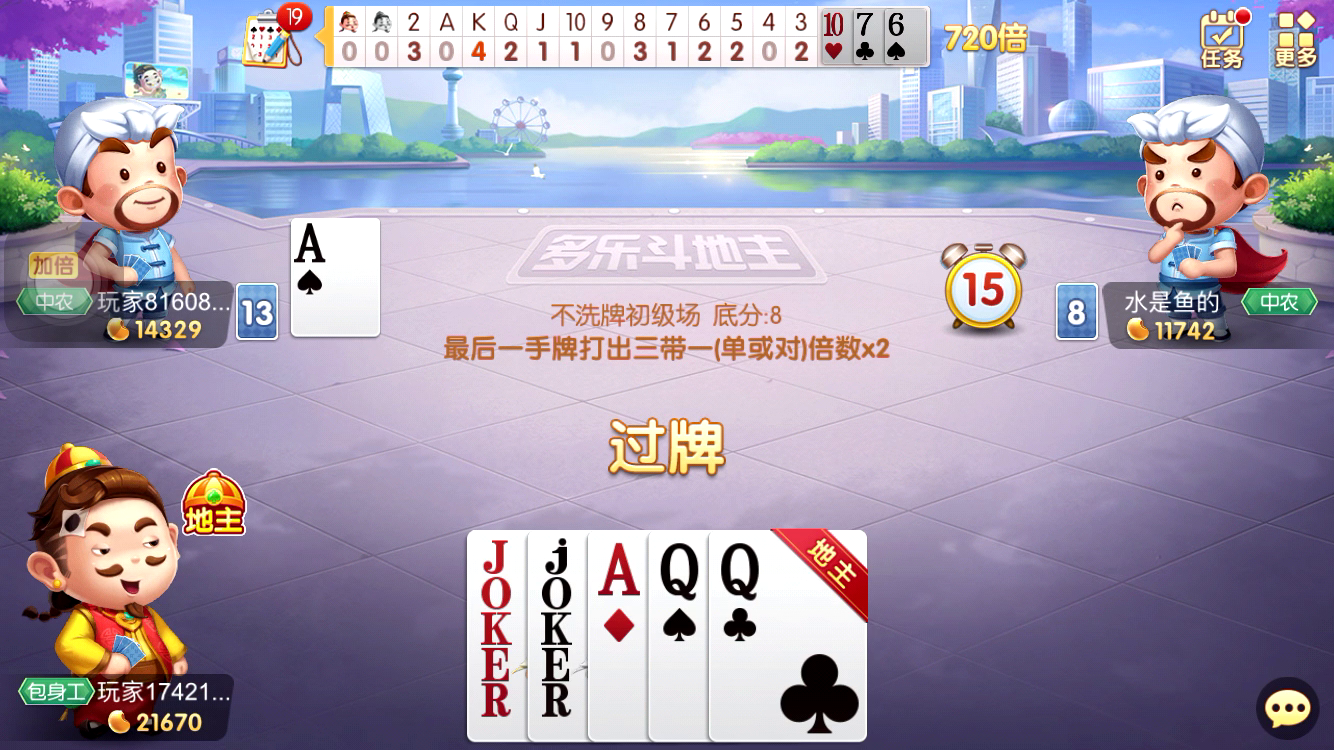A: (592, 538, 646, 606), (290, 220, 336, 270)
JOKER: (468, 532, 525, 655)
Q: (653, 539, 703, 606), (715, 539, 764, 607)
joker: (533, 533, 582, 655)
seven: (852, 10, 877, 44)
six: (884, 9, 915, 42)
ten: (820, 9, 847, 41)
